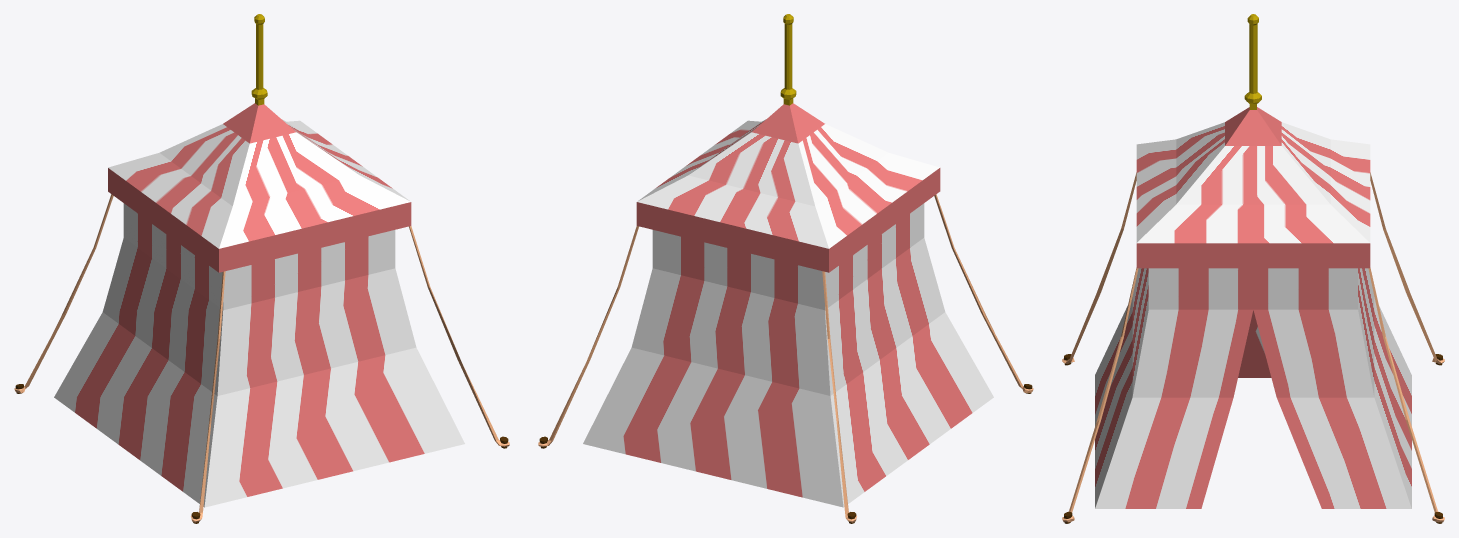
File: single_tent.fbx
3 renders of one model, left to right at view 1: azimuth 30°, elevation 25°; view 2: azimuth 150°, elevation 25°; view 3: azimuth 270°, elevation 25°, orthographic. The views are drawn at different scales.
Parts seen in each view (by area): view 1: Plane, Plane.001; view 2: Plane, Plane.001; view 3: Plane, Plane.001.
Part boxes in pixels (bbox=[...]): Plane: bbox=[54, 14, 464, 507]; Plane.001: bbox=[14, 194, 509, 522]; Plane: bbox=[583, 14, 993, 507]; Plane.001: bbox=[538, 194, 1033, 522]; Plane: bbox=[1095, 14, 1411, 508]; Plane.001: bbox=[1062, 172, 1444, 522].
Bounding box in the file's own units: 473 × 578 × 469.
Materials: 4 (1 with a texture image).
